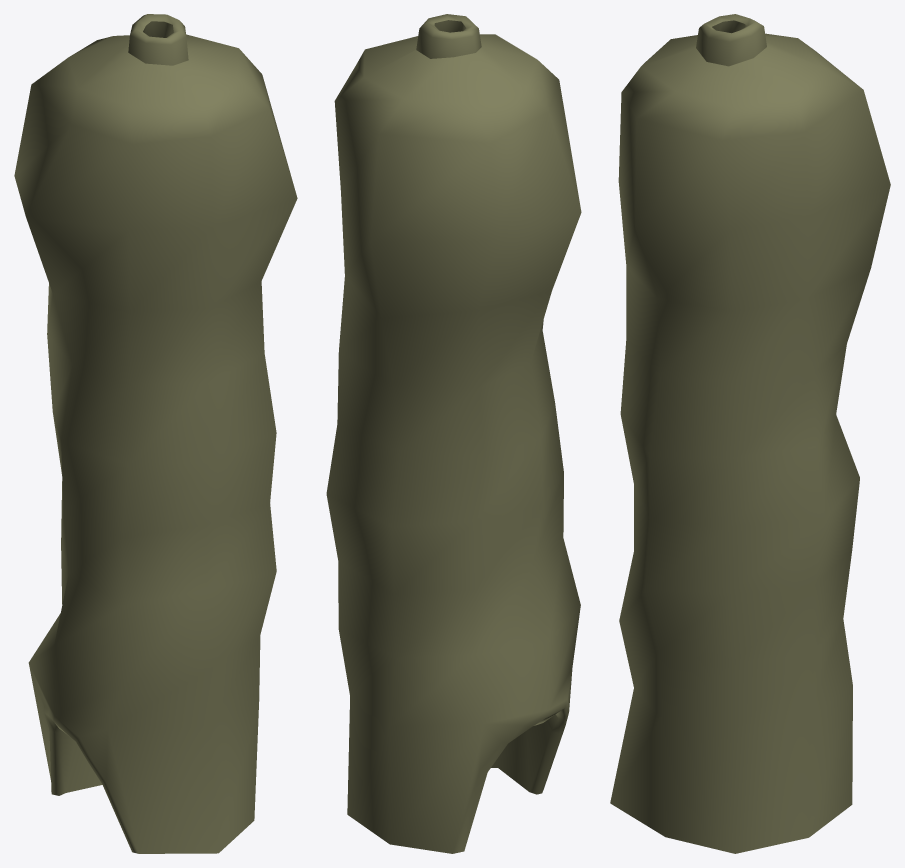
Rendered from HollowTower_meshV2.fbx.
3 views of the same model, side by side, from view 1: azimuth 30°, elevation 25°; view 2: azimuth 150°, elevation 25°; view 3: azimuth 270°, elevation 25° (orthographic).
Visible parts, largest first — view 1: HollowTower_mesh; view 2: HollowTower_mesh; view 3: HollowTower_mesh.
Boxes of the visible parts, box(x1,y1,x2,y2) form: HollowTower_mesh: box(14, 14, 297, 853); HollowTower_mesh: box(326, 14, 581, 853); HollowTower_mesh: box(610, 14, 890, 853).
Bounding box in the file's own units: 5.03 × 16.25 × 5.25.
